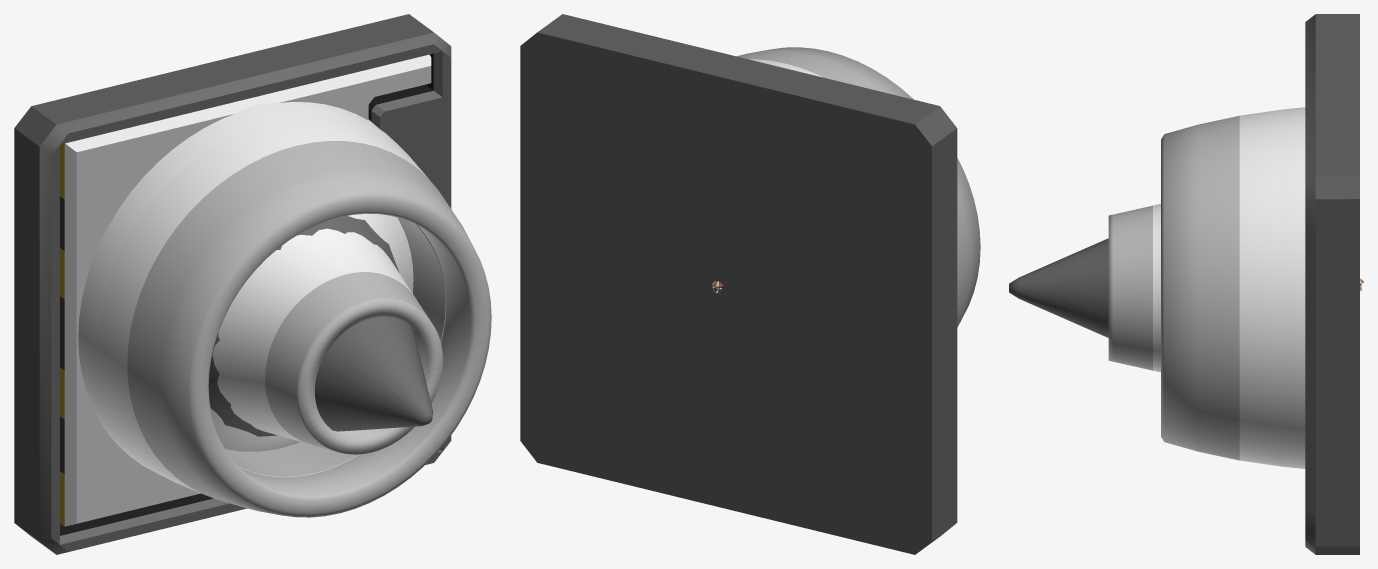
File: Parts_Utility.glb
The picture shows the model from 3 angles, left to right: view 1: azimuth 30°, elevation 25°; view 2: azimuth 150°, elevation 25°; view 3: azimuth 270°, elevation 25°; orthographic projection. The views are drawn at different scales.
Visible parts, largest first — view 1: AirOutlet__1, Airbreak__1, AirOutlet__0, Airbreak__0, AirIntake2__1, AirIntake__0, AirIntake__1; view 2: Airbreak__1, AirOutlet__1; view 3: AirOutlet__1, Airbreak__1, AirOutlet__0, AirIntake__0, AirIntake2__1.
Boxes of the visible parts, left/top/right/bottom form: AirOutlet__1: left=127, top=141, right=491, bottom=517; Airbreak__1: left=14, top=14, right=451, bottom=554; AirOutlet__0: left=97, top=117, right=428, bottom=493; Airbreak__0: left=60, top=54, right=431, bottom=526; AirIntake2__1: left=208, top=216, right=432, bottom=436; AirIntake__0: left=78, top=102, right=407, bottom=476; AirIntake__1: left=225, top=217, right=446, bottom=477; Airbreak__1: left=520, top=14, right=957, bottom=554; AirOutlet__1: left=737, top=47, right=980, bottom=327; AirOutlet__1: left=1108, top=115, right=1239, bottom=460; Airbreak__1: left=1305, top=14, right=1359, bottom=554; AirOutlet__0: left=1153, top=109, right=1281, bottom=466; AirIntake__0: left=1281, top=107, right=1305, bottom=468; AirIntake2__1: left=1009, top=238, right=1108, bottom=337.
Bounding box in the file's own units: 1.13 × 1.13 × 0.9622.
Materials: 22 (15 with a texture image).
